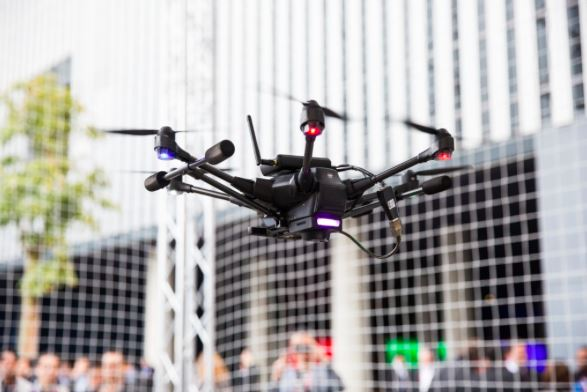drone: (101, 86, 484, 263)
